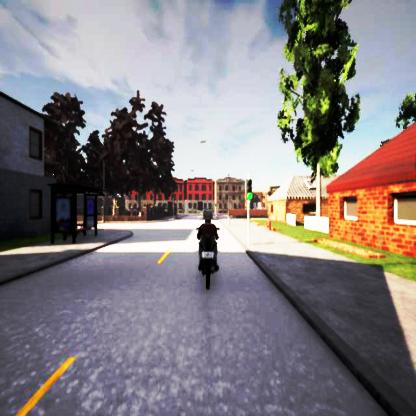motobike: (196, 211, 221, 290)
